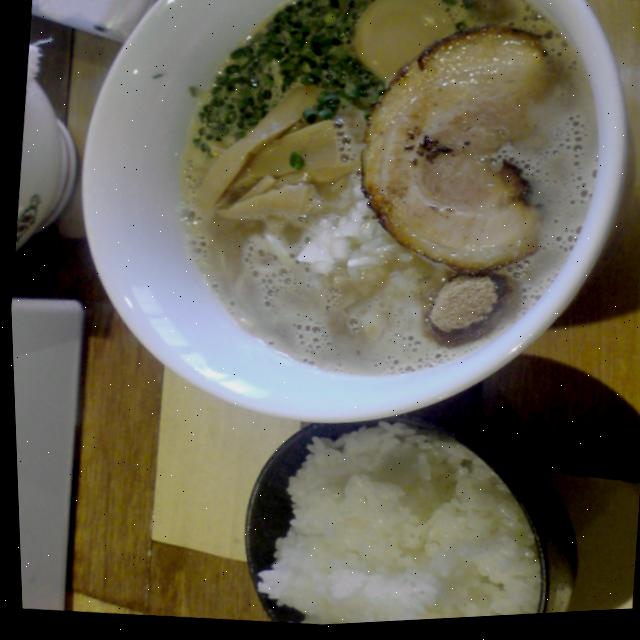米饭主食: (240, 392, 554, 631)
面条主食: (77, 0, 638, 439)
